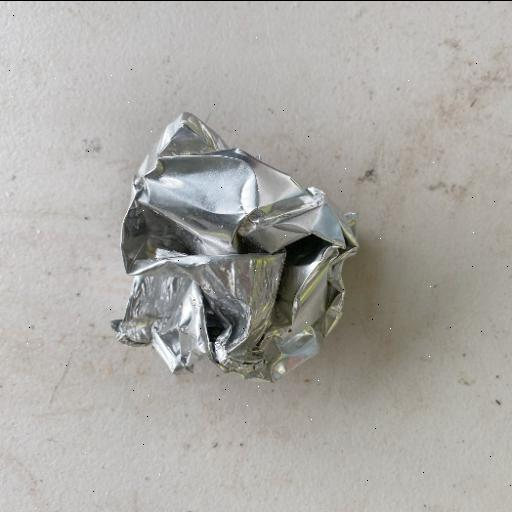Metal: (108, 110, 360, 384)
